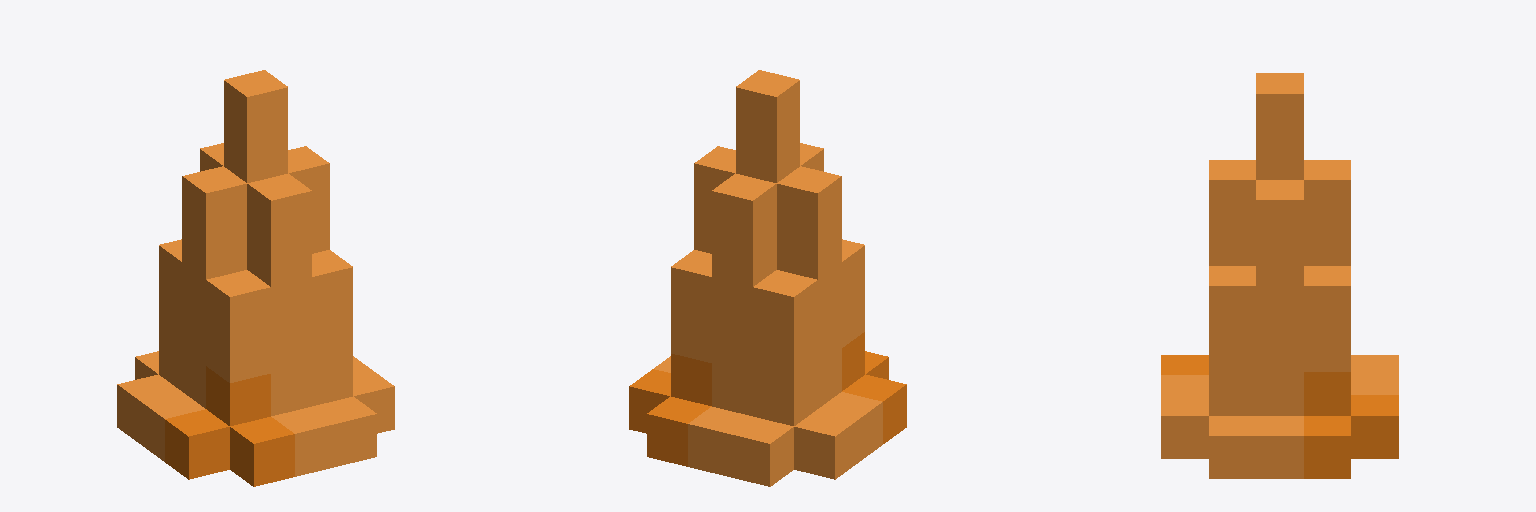
3 renders of one model, left to right at view 1: azimuth 30°, elevation 25°; view 2: azimuth 150°, elevation 25°; view 3: azimuth 270°, elevation 25°, orthographic.
Parts seen in each view (by area): view 1: YellowMushroom_3; view 2: YellowMushroom_3; view 3: YellowMushroom_3.
Boxes of the visible parts, box(x1,y1,x2,y2) form: YellowMushroom_3: box(117, 70, 394, 486); YellowMushroom_3: box(629, 70, 906, 486); YellowMushroom_3: box(1161, 73, 1398, 478).
Bounding box in the file's own units: 5 × 8 × 5.
1 materials, 1 textured.